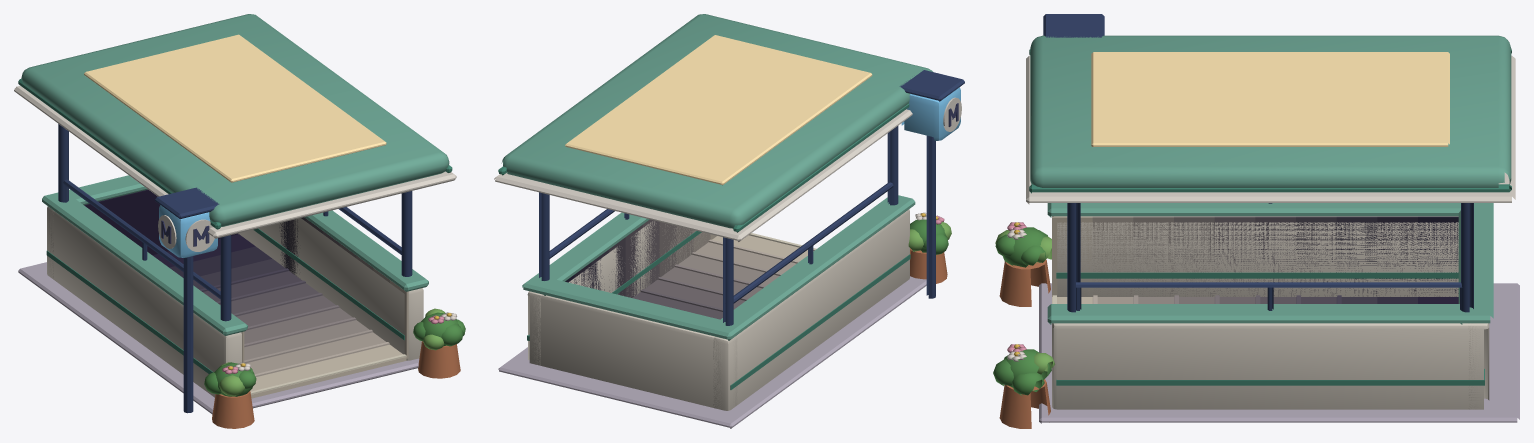
Rendered from ac_subway.glb.
The picture shows the model from 3 angles, left to right: view 1: azimuth 30°, elevation 25°; view 2: azimuth 150°, elevation 25°; view 3: azimuth 270°, elevation 25°; orthographic projection. The views are drawn at different scales.
Parts seen in each view (by area): view 1: box; view 2: box; view 3: box.
Boxes of the visible parts, left/top/right/bottom form: box: left=14, top=14, right=465, bottom=428; box: left=494, top=14, right=964, bottom=428; box: left=993, top=14, right=1519, bottom=428.
Size of the model in its own units: 4.47 by 3.28 by 6.03.
